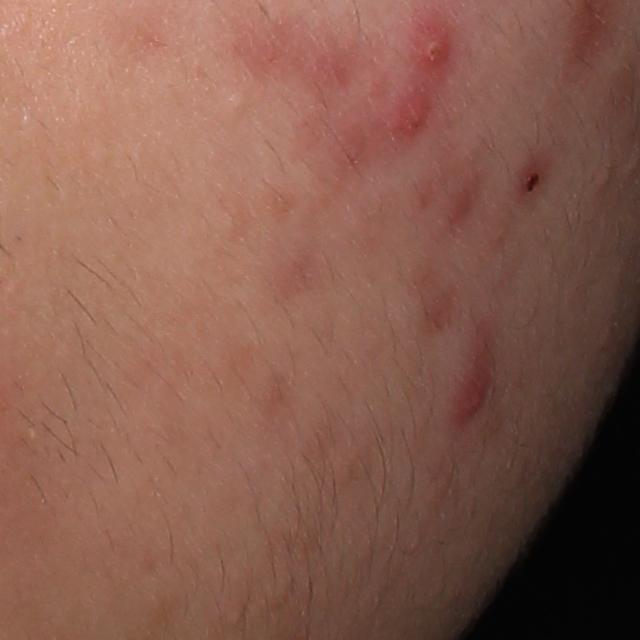comedo: (220, 90, 247, 123)
papule: (458, 359, 491, 431)
